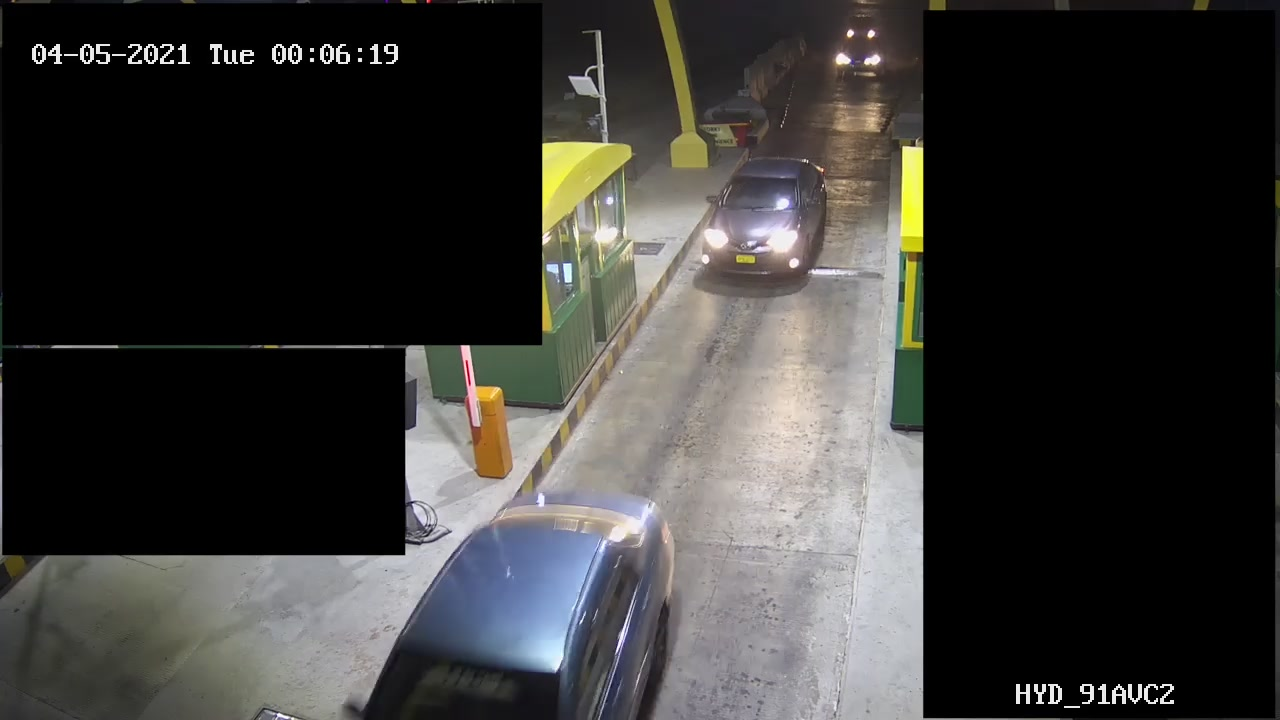F1: (700, 142, 835, 288)
